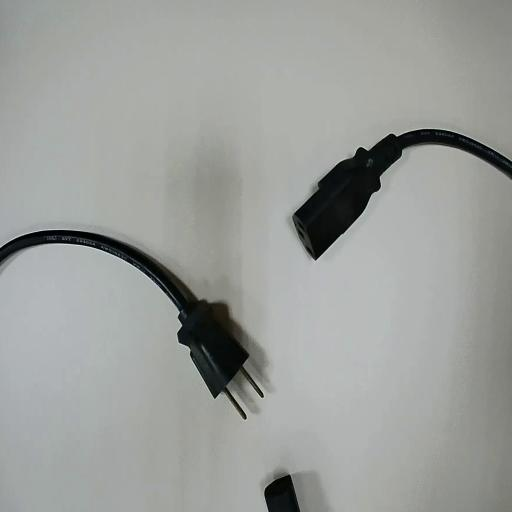wire: (0, 231, 261, 416), (295, 130, 511, 258)
